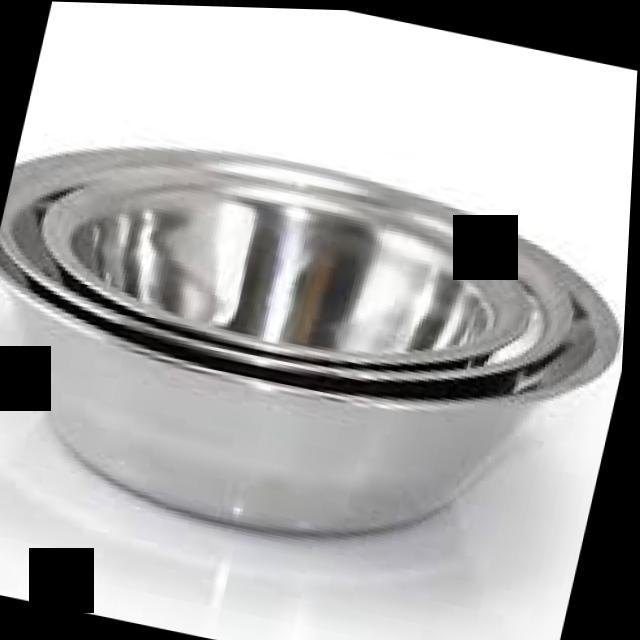Sponge Bowl: (0, 92, 636, 602)
